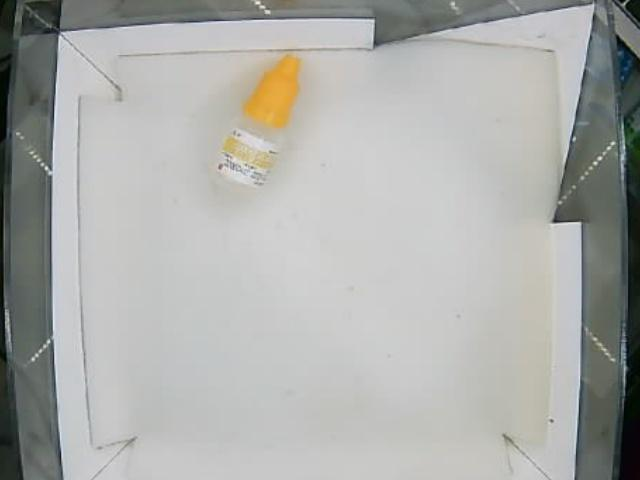Bottle: (217, 54, 302, 195)
